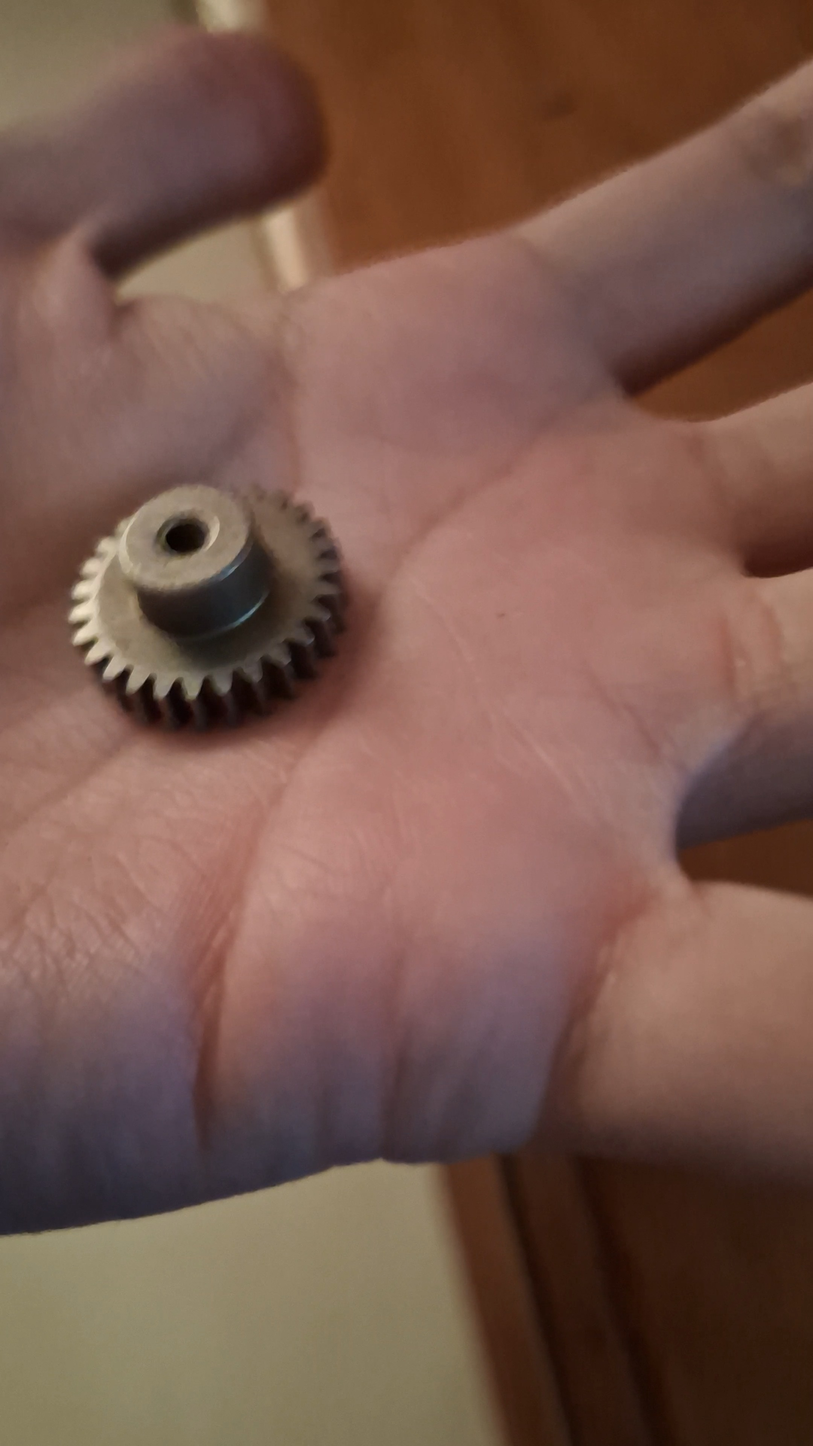spur gear: (70, 485, 343, 728)
